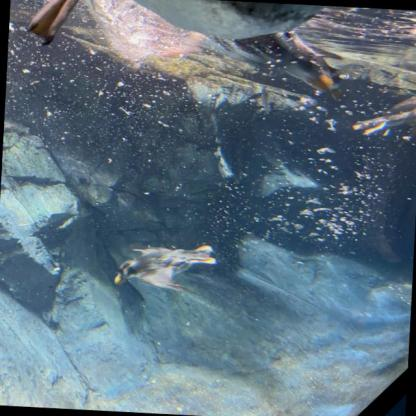puffin: (22, 0, 344, 98), (114, 240, 216, 294), (353, 84, 415, 140)
